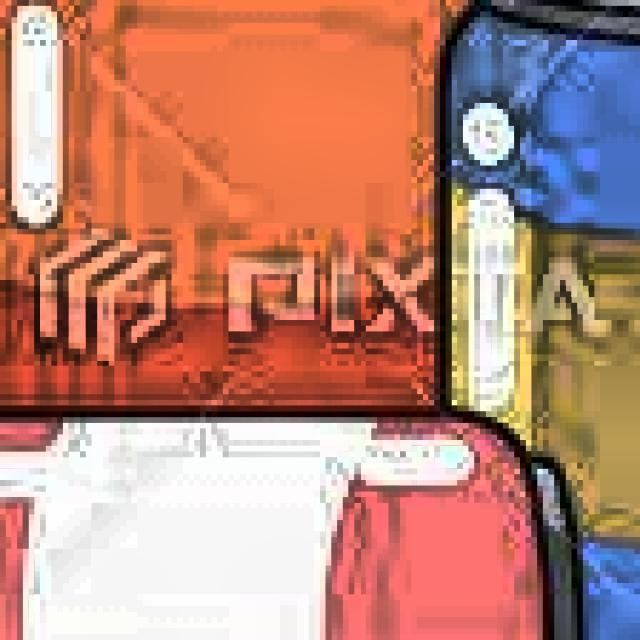metal: (0, 0, 508, 451), (0, 383, 600, 640), (428, 0, 640, 640)
